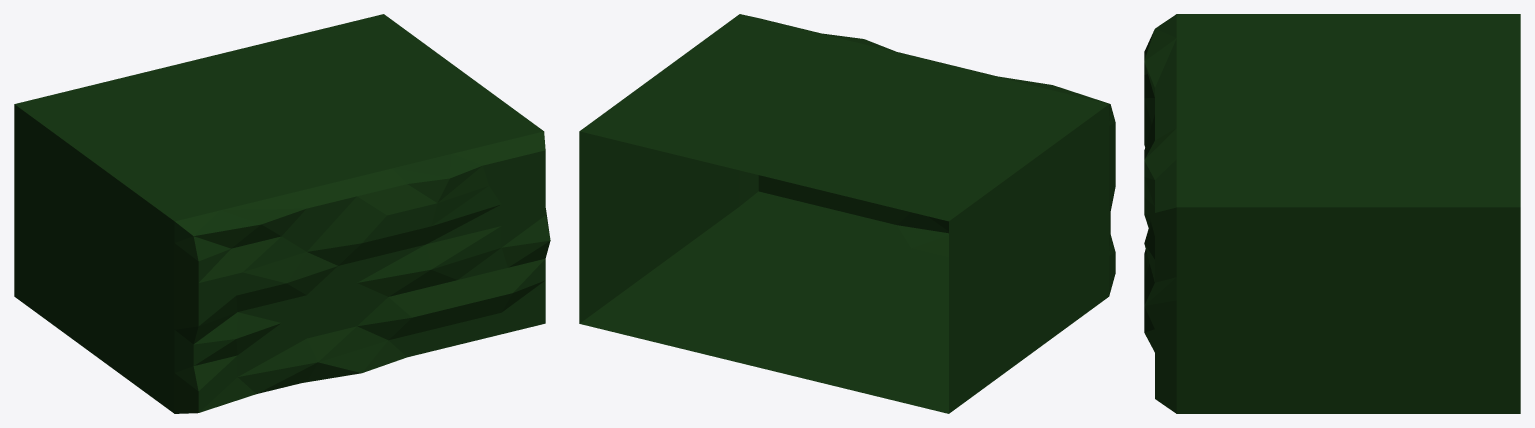
The model's file is greenfloor.fbx.
The picture shows the model from 3 angles, left to right: view 1: azimuth 30°, elevation 25°; view 2: azimuth 150°, elevation 25°; view 3: azimuth 270°, elevation 25°; orthographic projection. The views are drawn at different scales.
Visible parts, largest first — view 1: Cube; view 2: Cube; view 3: Cube.
Part boxes in pixels (bbox=[...]): Cube: bbox=[14, 14, 550, 413]; Cube: bbox=[579, 14, 1115, 413]; Cube: bbox=[1144, 14, 1520, 413].
Bounding box in the file's own units: 4198 × 2090 × 3452.
